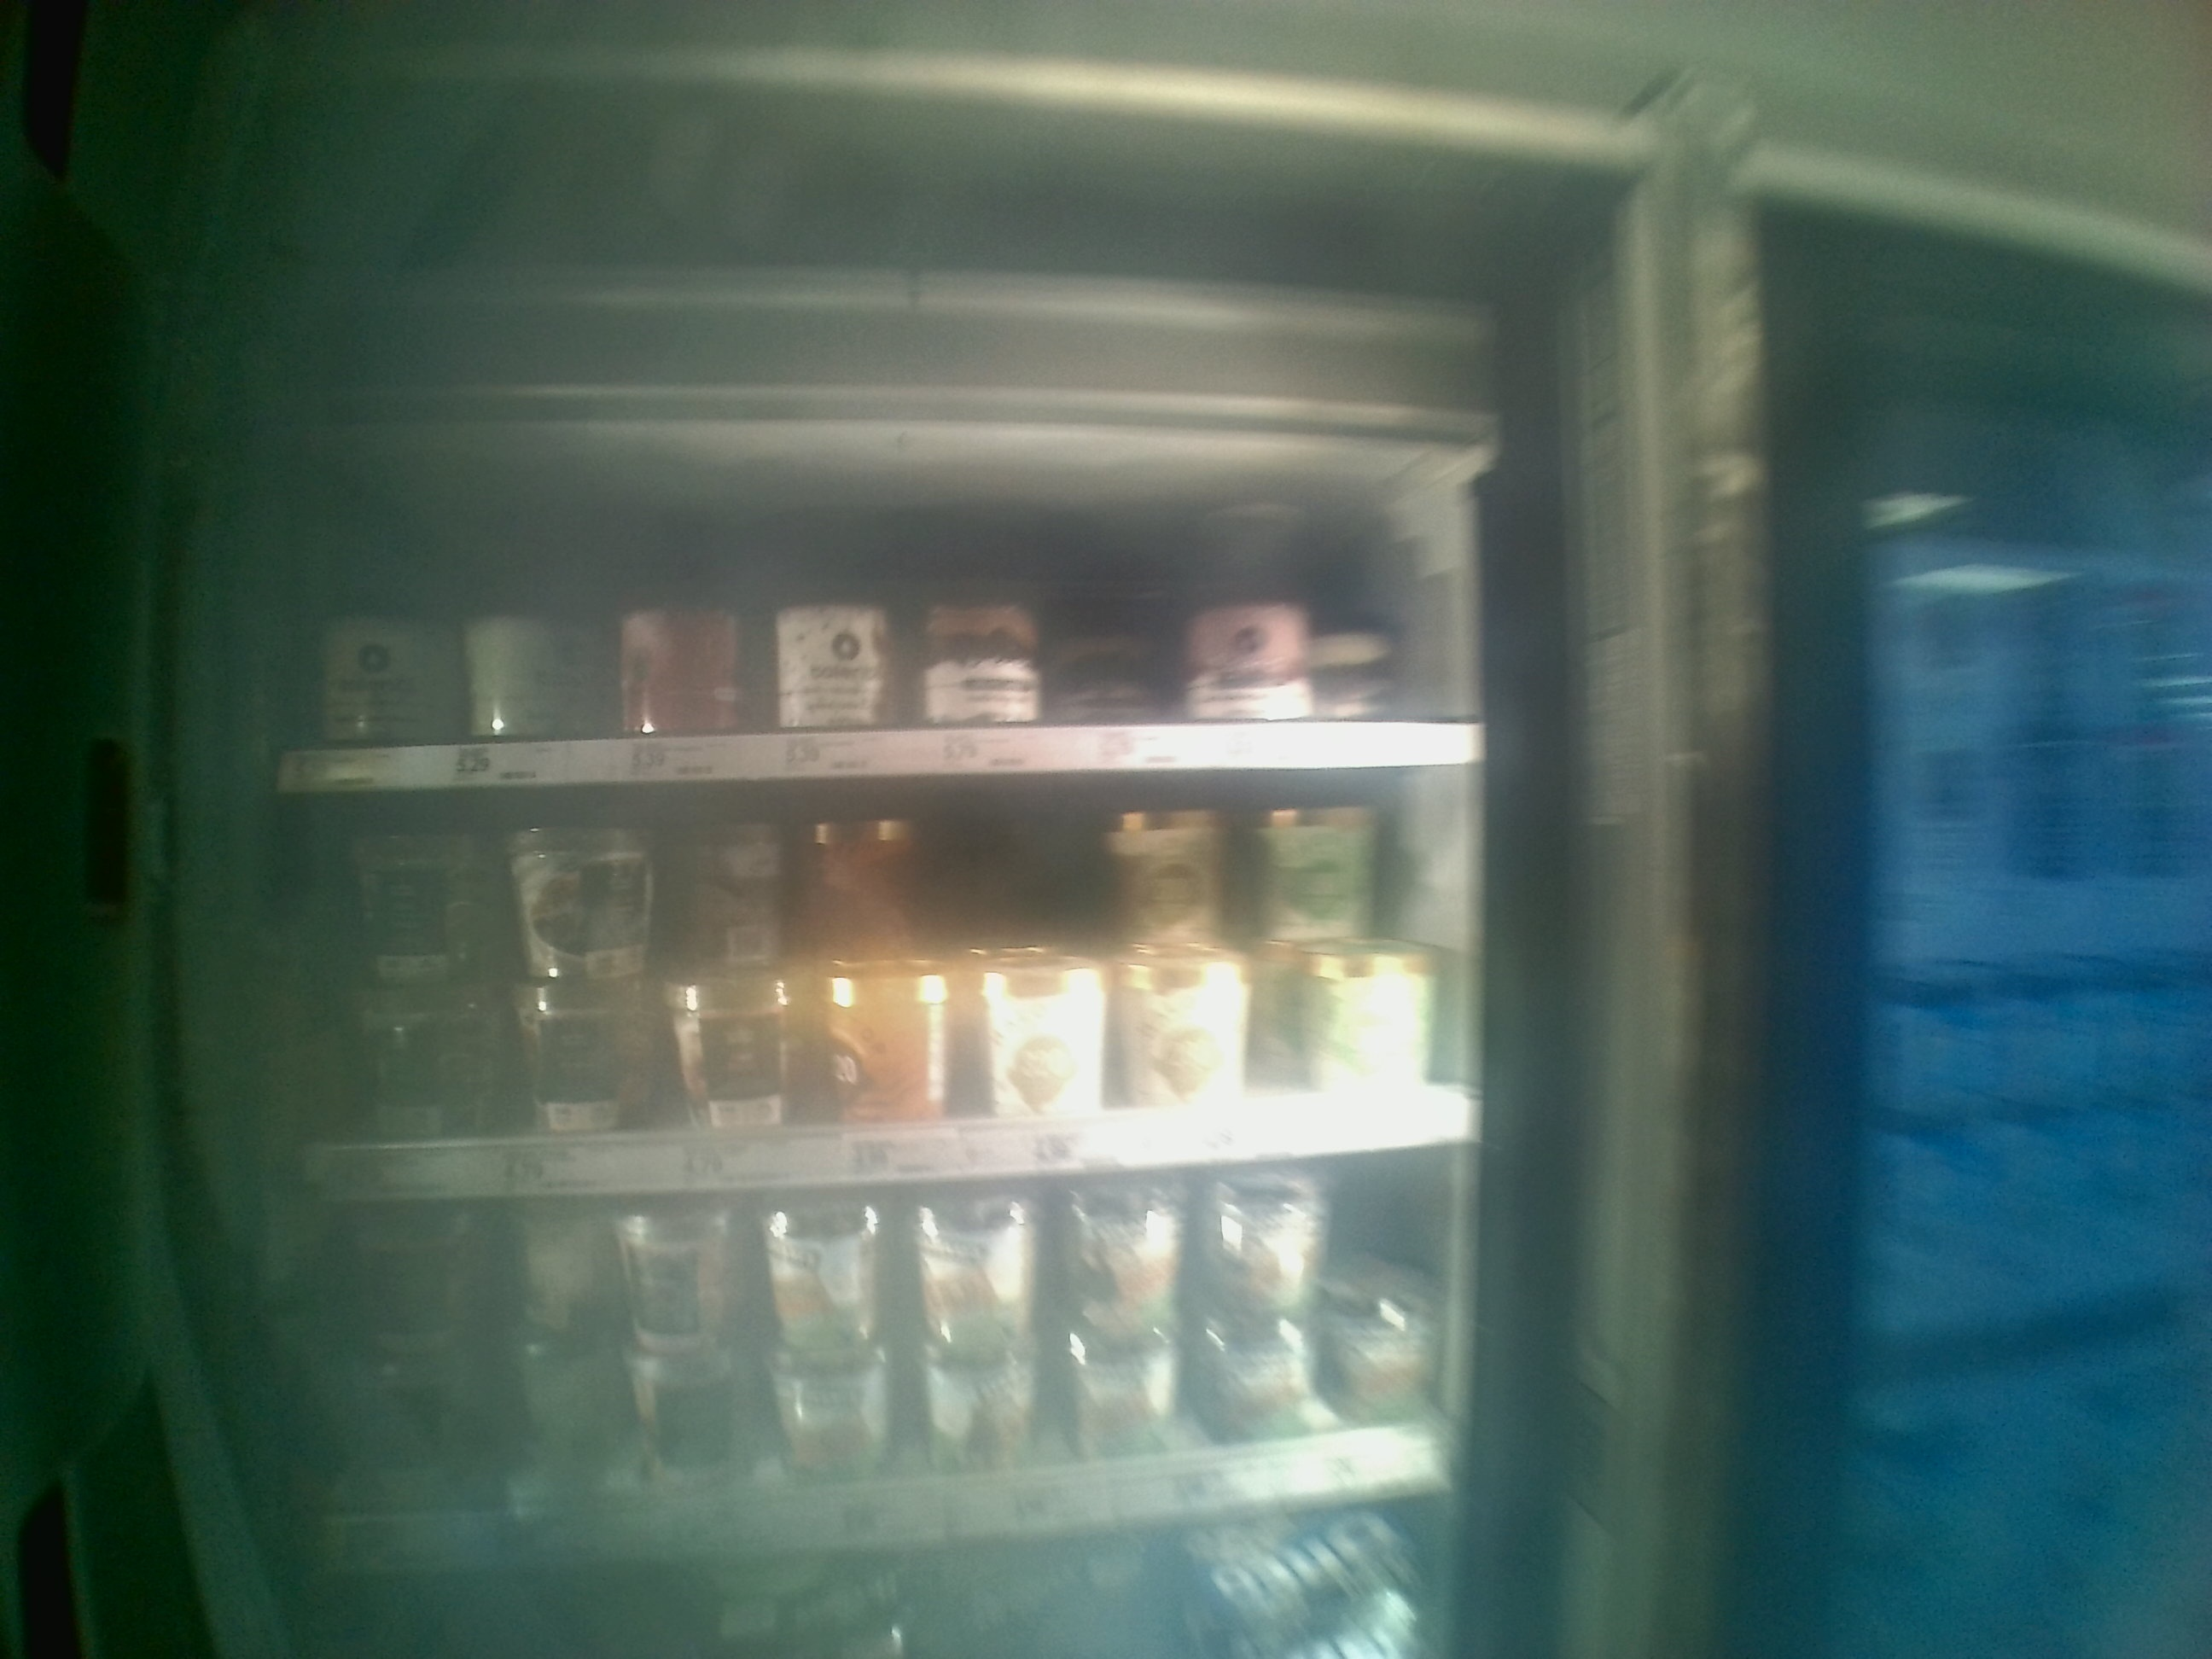ice-cream-shelf: (279, 488, 1461, 788)
